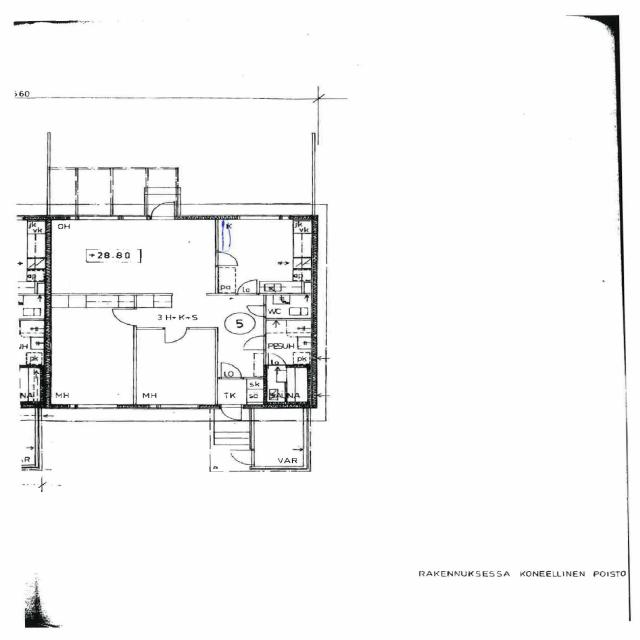door: (151, 199, 174, 220), (110, 309, 136, 326), (221, 404, 242, 423), (165, 328, 187, 345), (230, 450, 254, 465), (215, 252, 238, 266), (221, 363, 241, 379), (244, 336, 266, 350), (237, 280, 257, 295), (268, 352, 286, 368), (248, 306, 266, 316)
